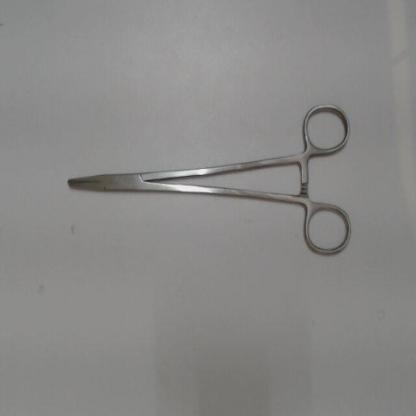8 Mayo Needle Holder: (56, 96, 361, 264)
